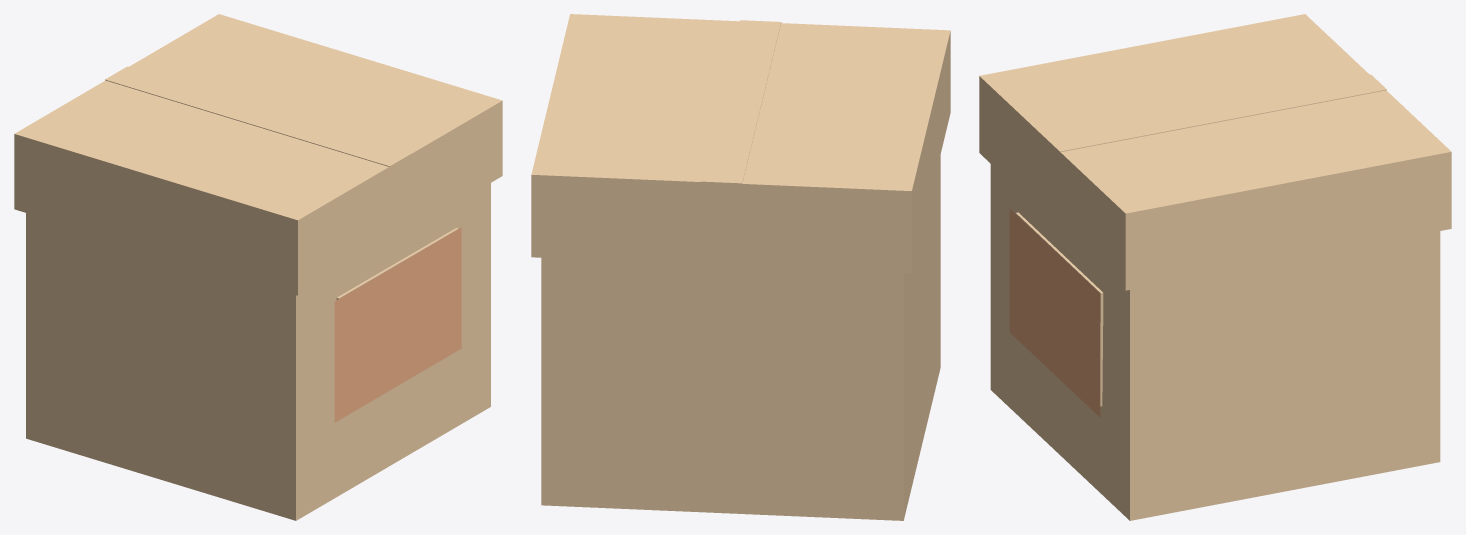
The model's file is kotak.fbx.
The picture shows the model from 3 angles, left to right: view 1: azimuth 30°, elevation 25°; view 2: azimuth 150°, elevation 25°; view 3: azimuth 270°, elevation 25°; orthographic projection. The views are drawn at different scales.
Parts seen in each view (by area): view 1: Cube.001, k, e; view 2: Cube.001, k; view 3: Cube.001, k, e.
Part boxes in pixels (x1=…): Cube.001: x1=26, y1=183, x2=490, y2=520; k: x1=14, y1=14, x2=502, y2=299; e: x1=334, y1=227, x2=461, y2=422; Cube.001: x1=541, y1=155, x2=940, y2=520; k: x1=531, y1=14, x2=950, y2=273; Cube.001: x1=990, y1=164, x2=1440, y2=520; k: x1=979, y1=14, x2=1451, y2=406; e: x1=1009, y1=209, x2=1100, y2=417.
Bounding box in the file's own units: 278 × 203 × 278.
